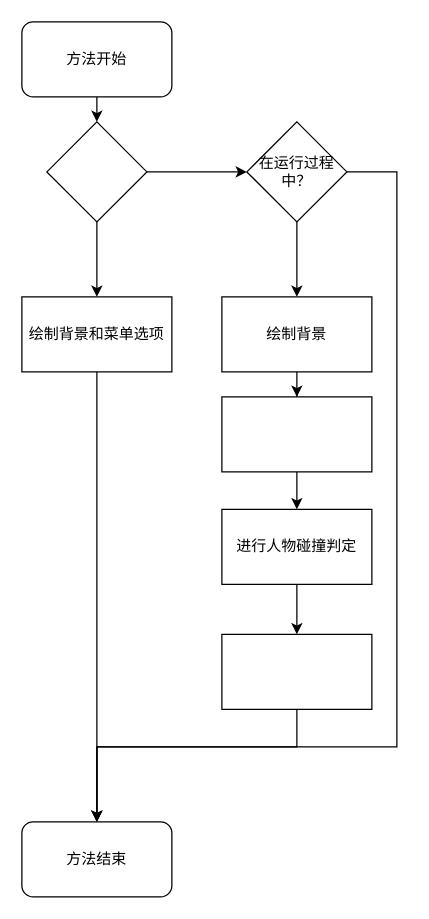
The diagram is 429 pixels wide and 919 high, and some of its shapes have lost their labels. Each missing label, with the centre of its shape:
"在菜单界面？" goes at (96,171).
"绘制人物" goes at (296,671).
"绘制地形" goes at (296,434).
